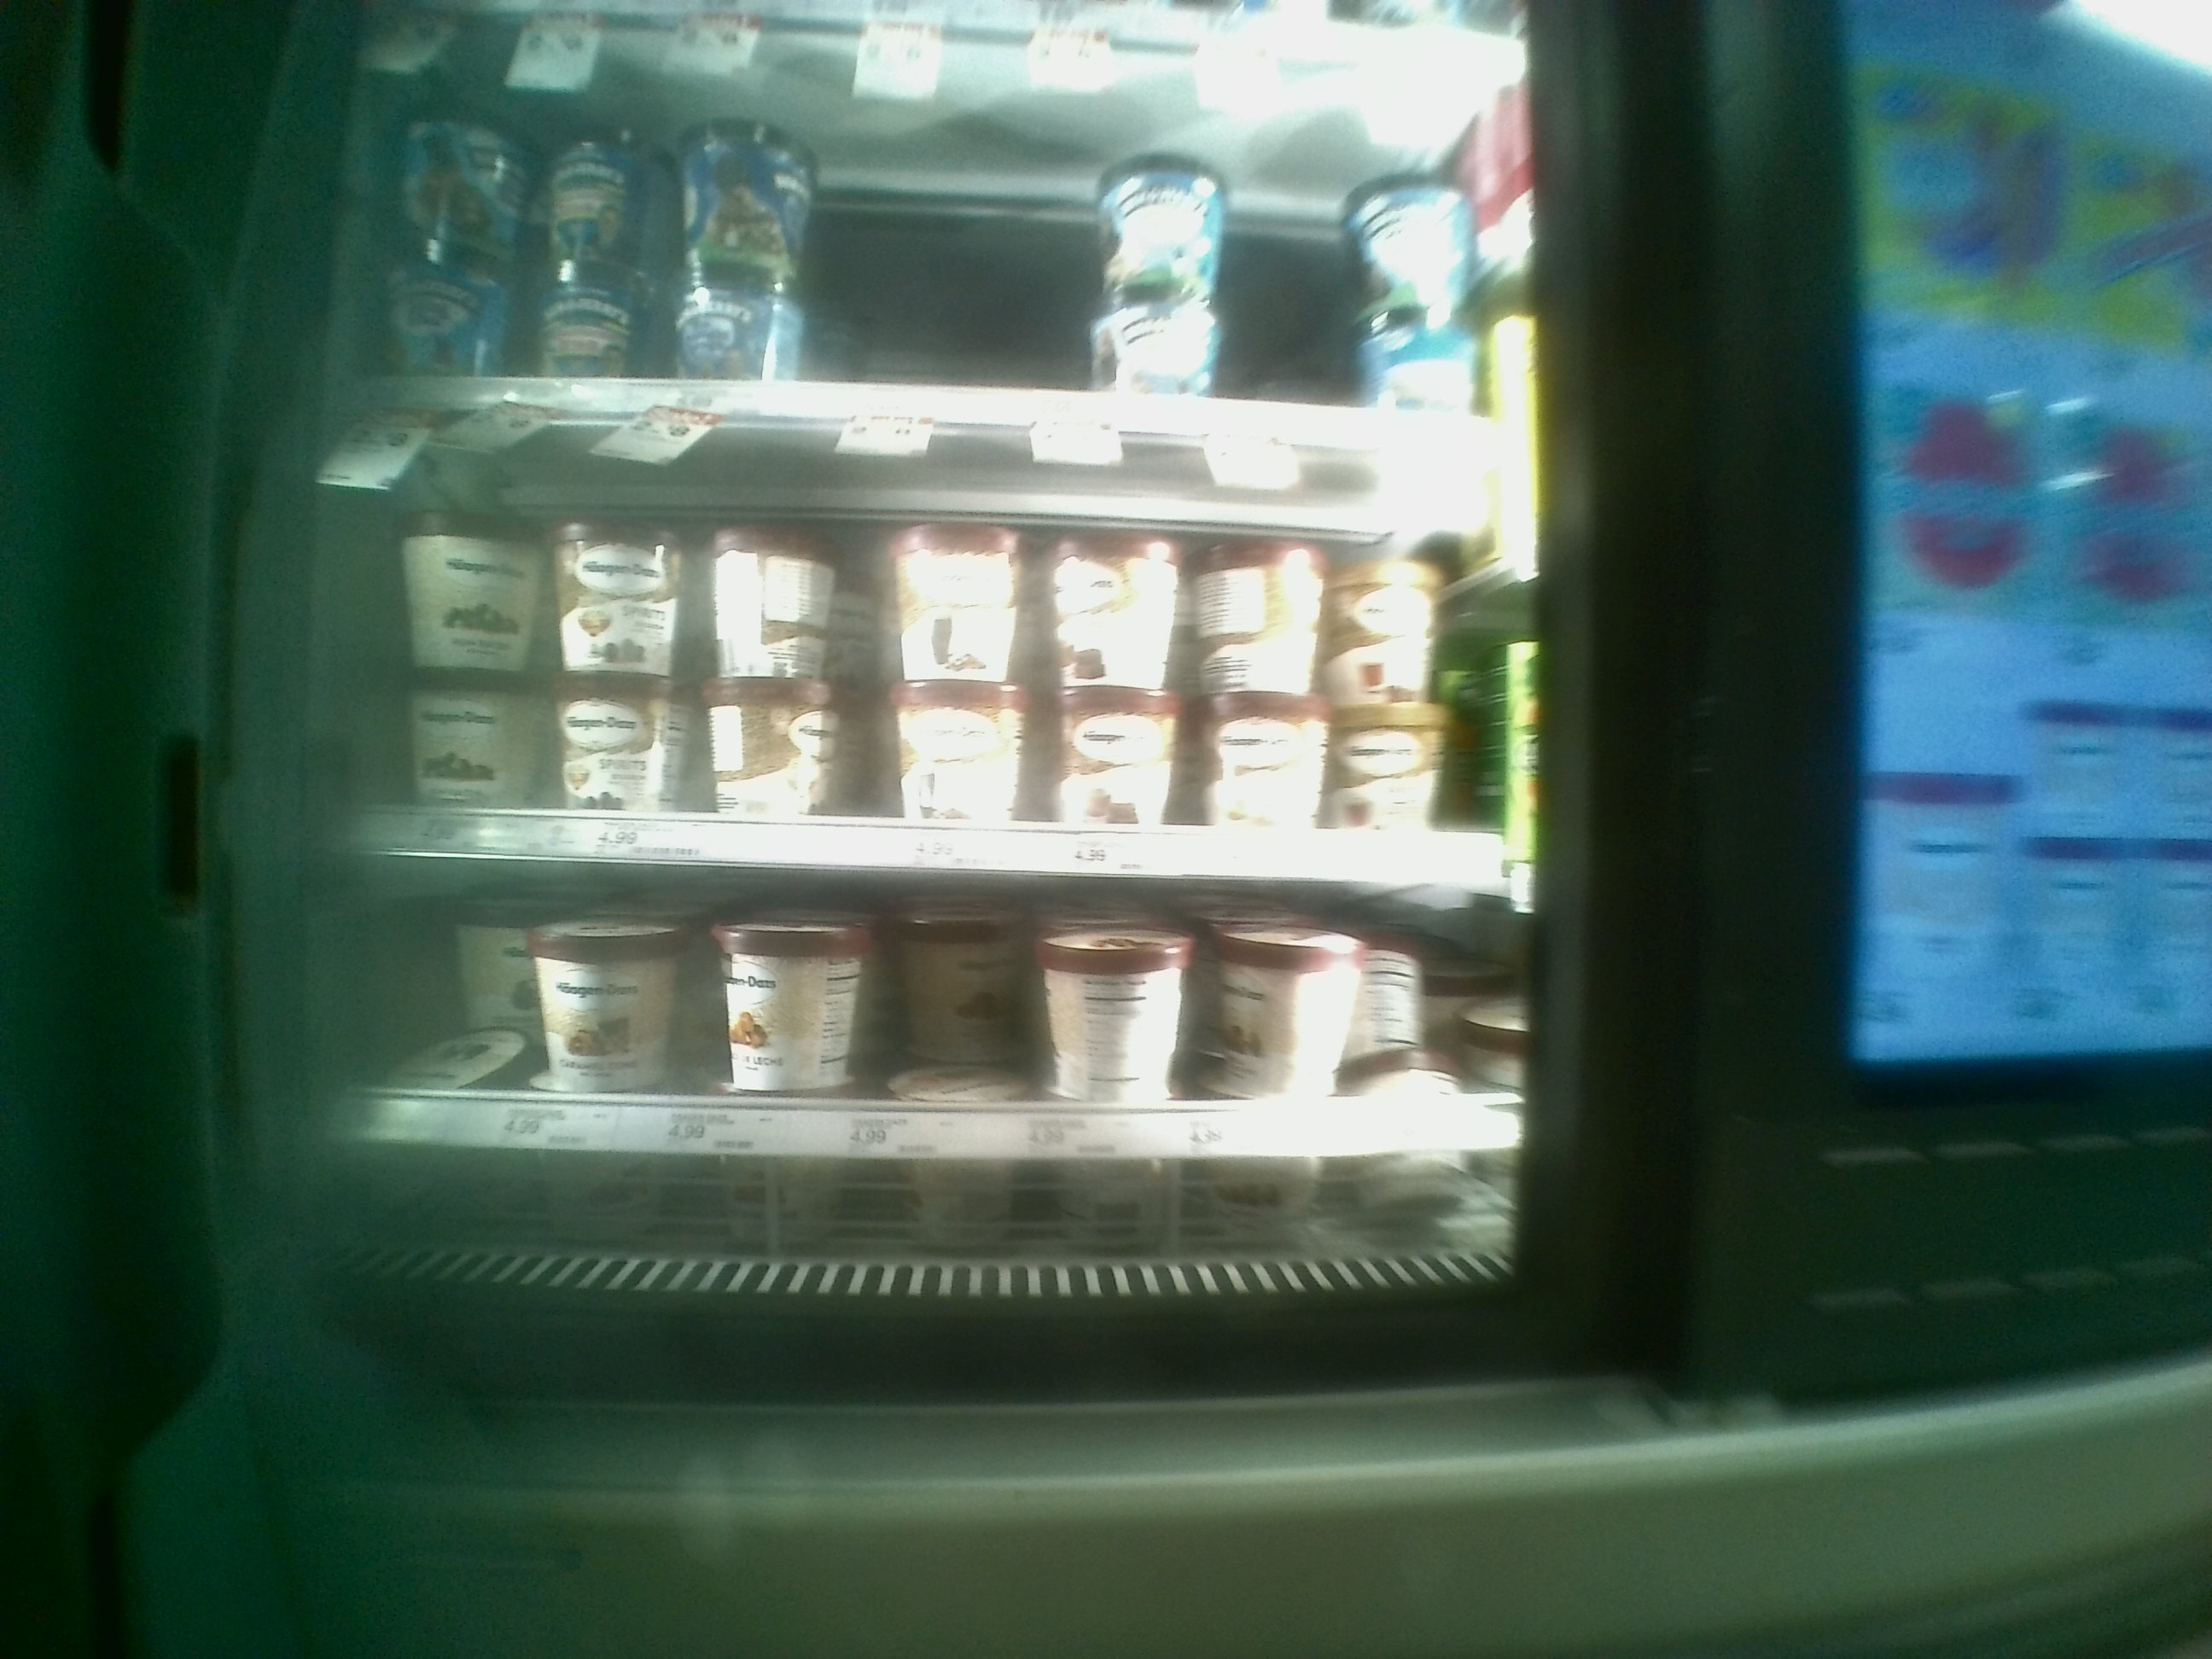shelf: (326, 422, 1529, 863), (334, 23, 1543, 420), (329, 868, 1521, 1168)
